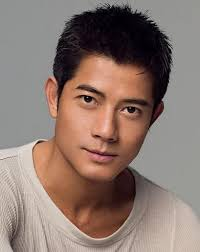asian_male: (47, 14, 175, 186)
